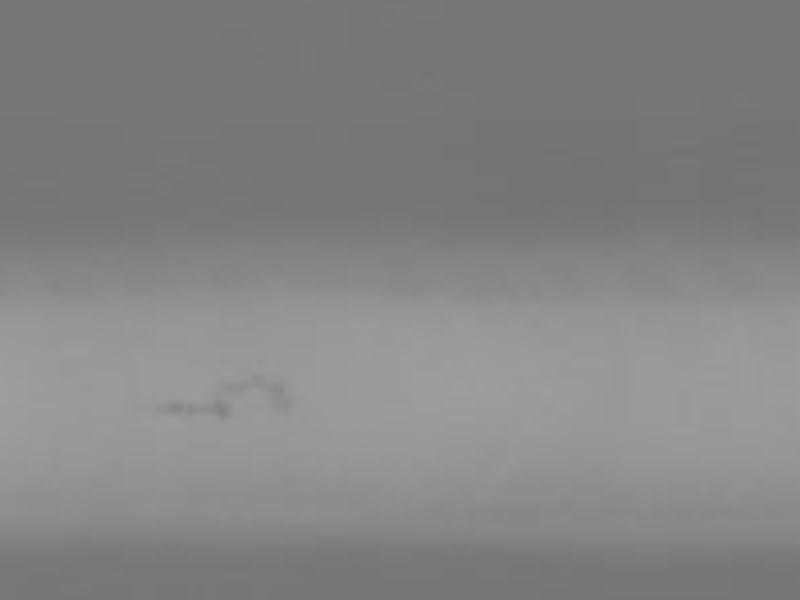defect: (269, 383, 297, 425), (193, 401, 232, 427), (222, 372, 252, 400), (158, 399, 185, 420), (256, 369, 275, 390)
